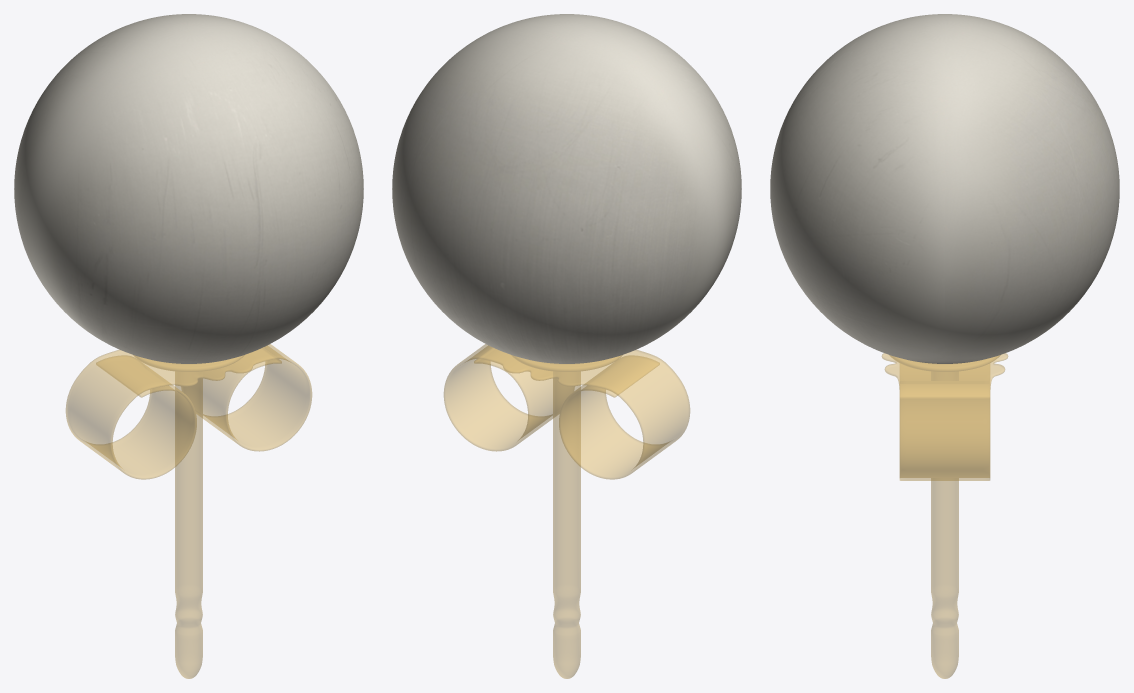
The model's file is earring.glb.
3 renders of one model, left to right at view 1: azimuth 30°, elevation 25°; view 2: azimuth 150°, elevation 25°; view 3: azimuth 270°, elevation 25°, orthographic.
Parts seen in each view (by area): view 1: bead, extension; view 2: bead, extension; view 3: bead, extension.
Part boxes in pixels (x1,y1,x2,y2): bead: [14, 14, 363, 363]; extension: [66, 344, 311, 678]; bead: [392, 14, 741, 363]; extension: [444, 344, 689, 678]; bead: [770, 14, 1119, 363]; extension: [882, 353, 1007, 678].
Size of the model in its own units: 0.267 by 0.5458 by 0.267.
2 materials, 1 textured.
